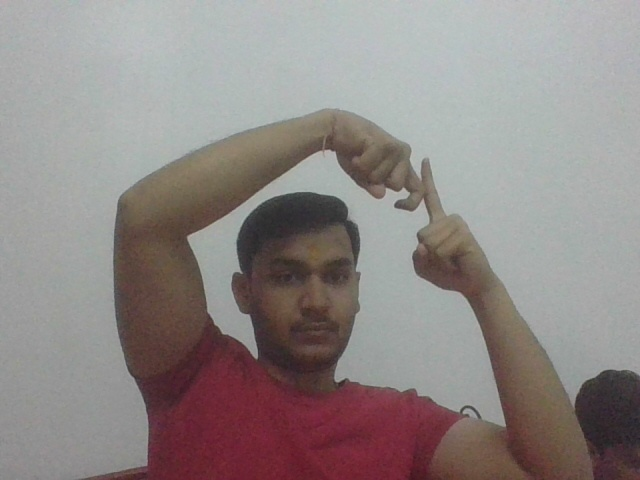K: (388, 154, 464, 229)
